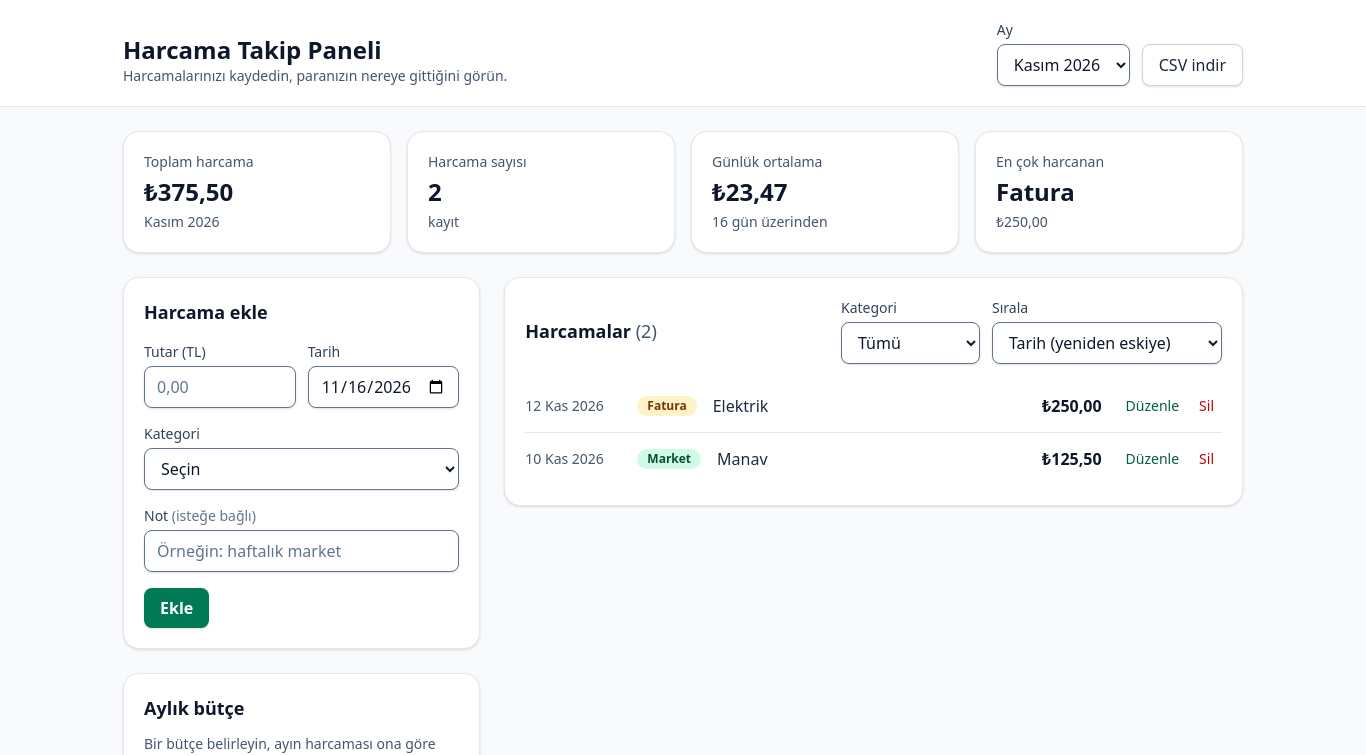
other tabs › closes the edit form and says why when another tab deletes the expense being edited
This screenshot has width=1366, height=755.
Click the button named "Market harcaması: düzenle". click: coordinates (1152, 459)
box: x1=1118 y1=445 x2=1187 y2=473
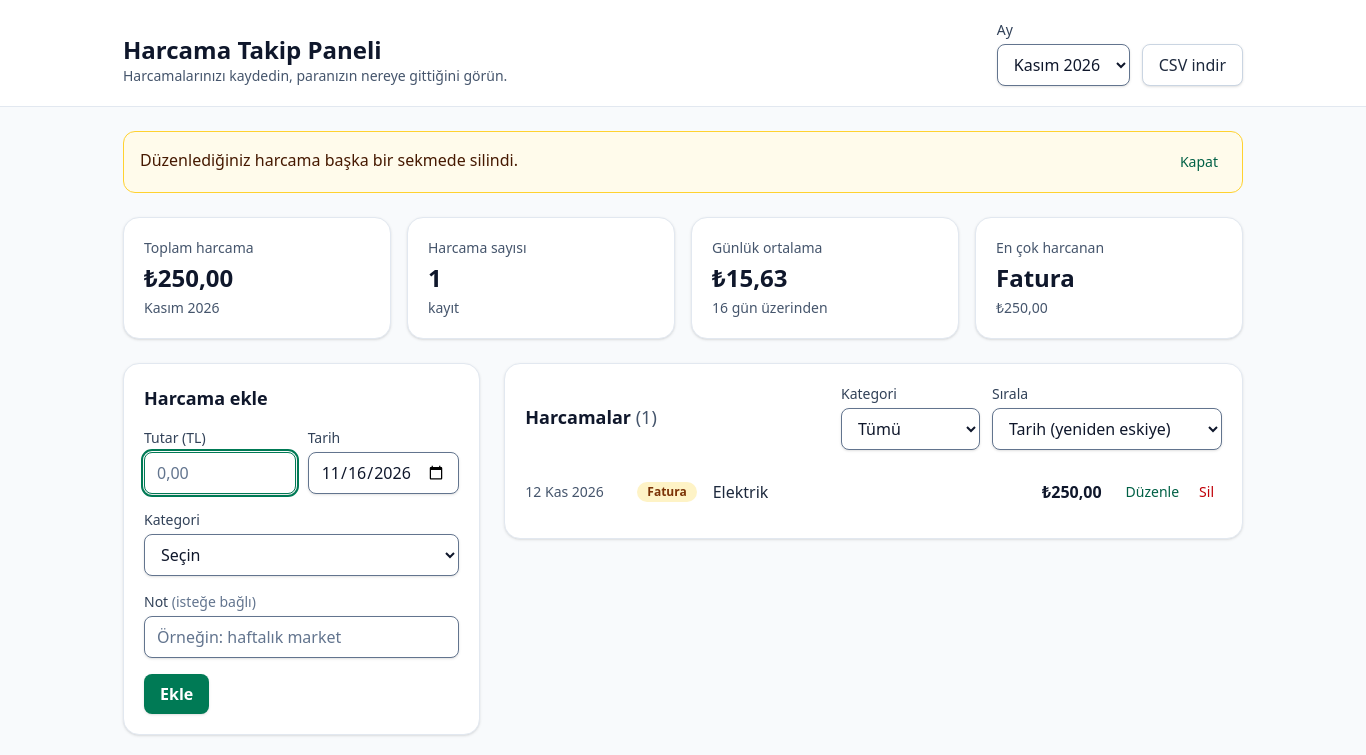
Expected: the heading "Harcama ekle" is shown, x1=144 y1=386 x2=268 y2=410
Result: the message shows "Düzenlediğiniz harcama başka bir sekmede silindi." at x1=140 y1=149 x2=518 y2=171
